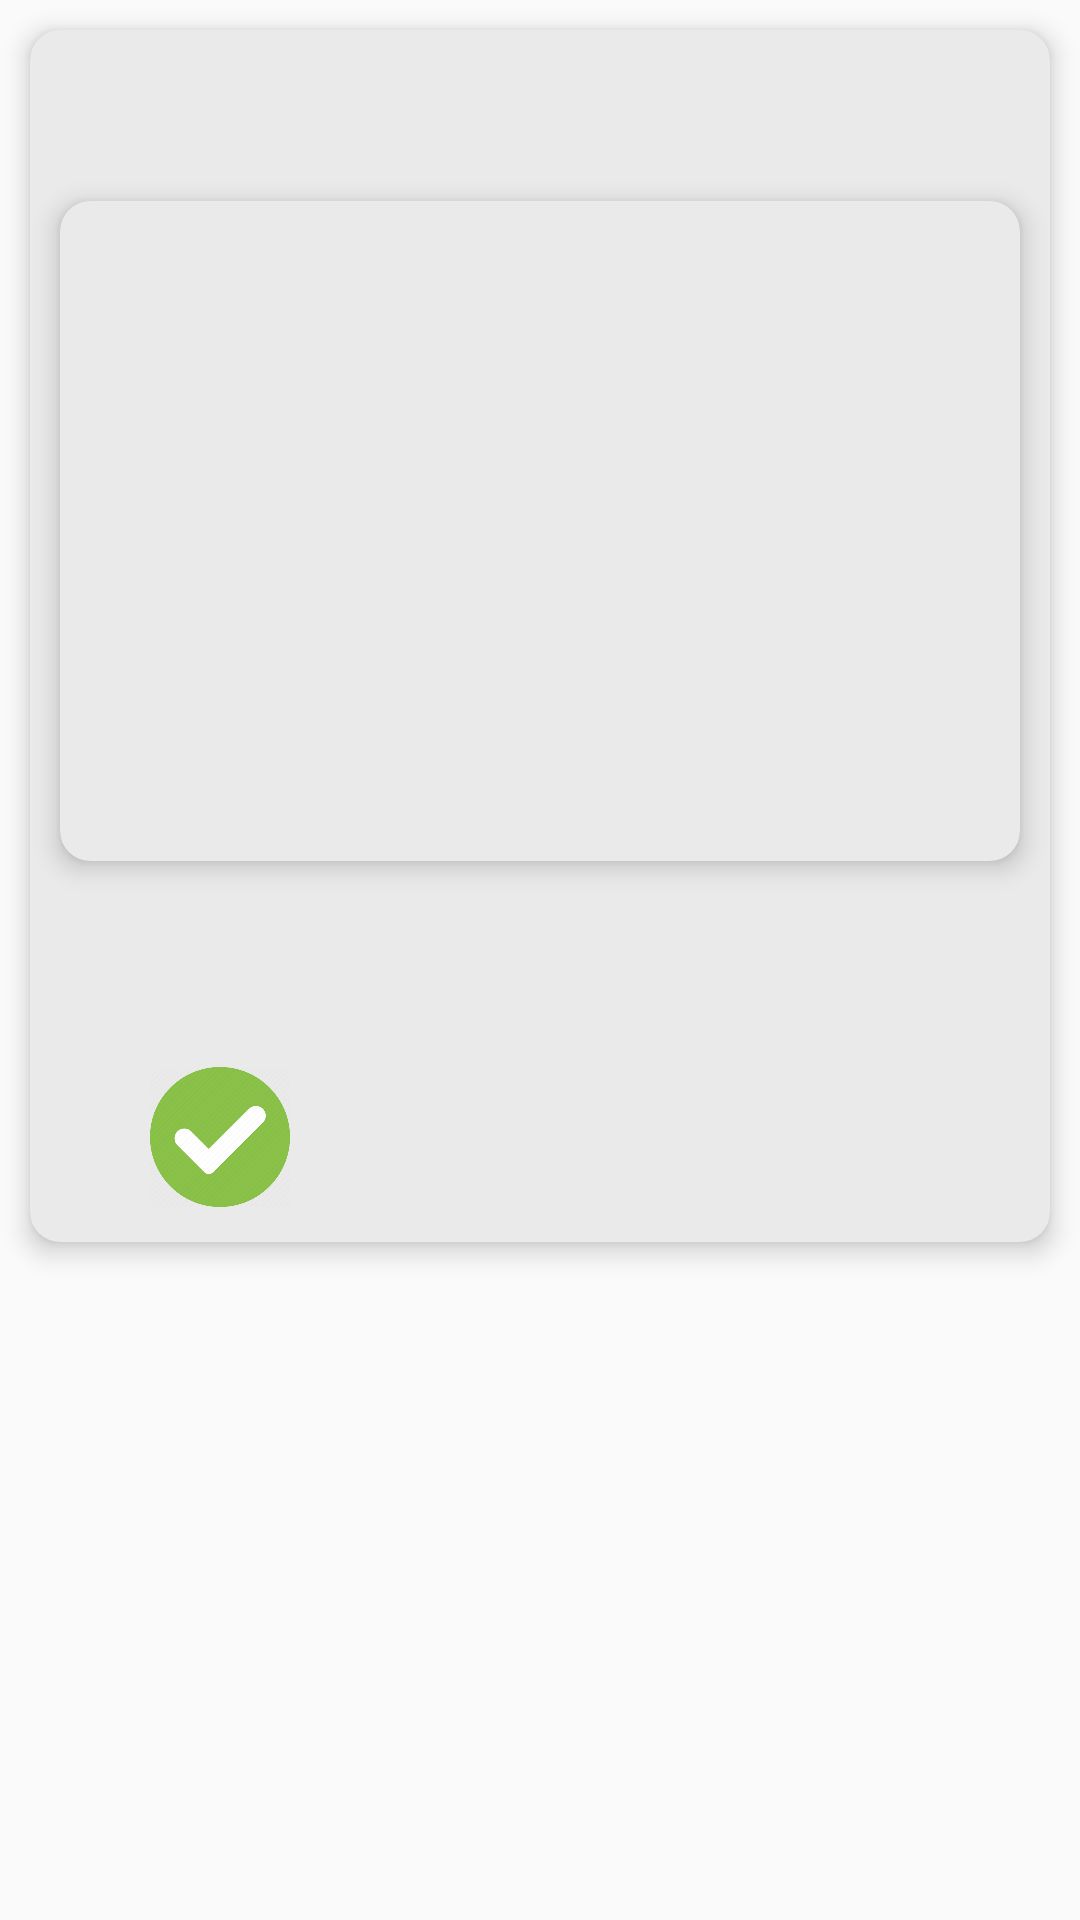

Named icons in this screenshot (1080*1920) and their centers, [x,y]:
tamamm: [220,1137]
